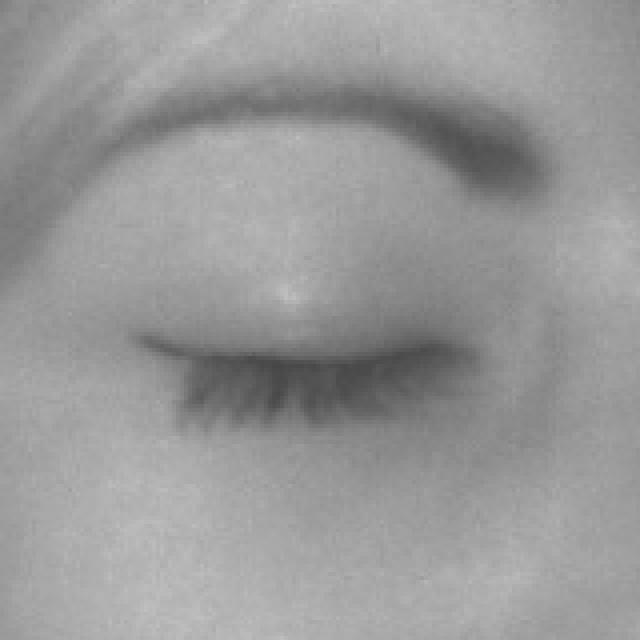Eyeclosed: (128, 226, 474, 542)
